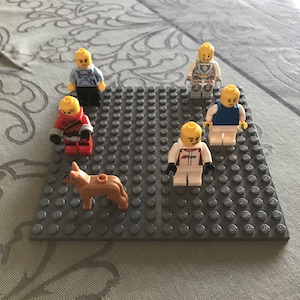Lego: (165, 122, 216, 192), (200, 84, 248, 149), (50, 95, 97, 156), (66, 47, 107, 111), (184, 41, 223, 103)
